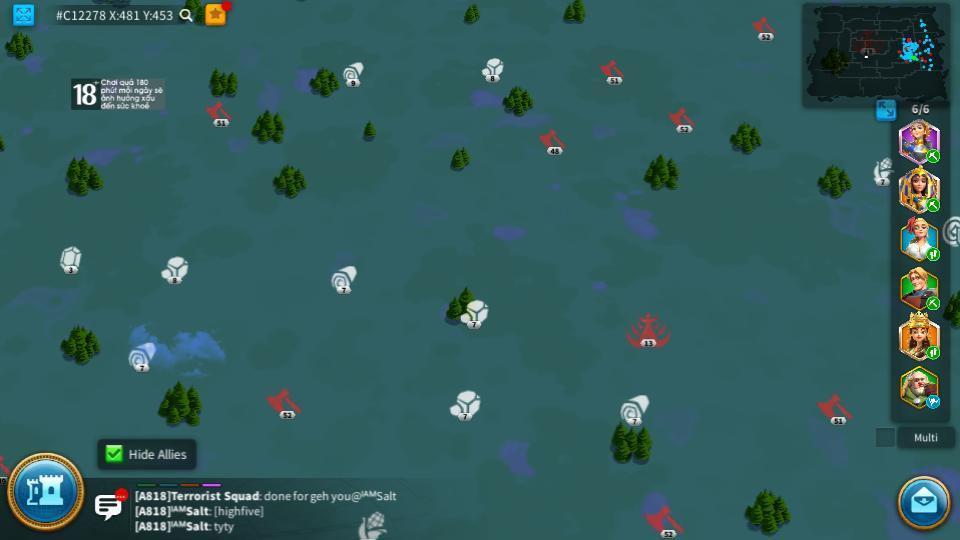gem-z-out: (162, 256, 188, 282), (59, 246, 83, 273)
march_farming: (925, 197, 941, 212), (925, 149, 941, 162)
march_idle: (925, 396, 942, 410)
march_marching: (925, 347, 941, 359), (925, 297, 942, 308)
